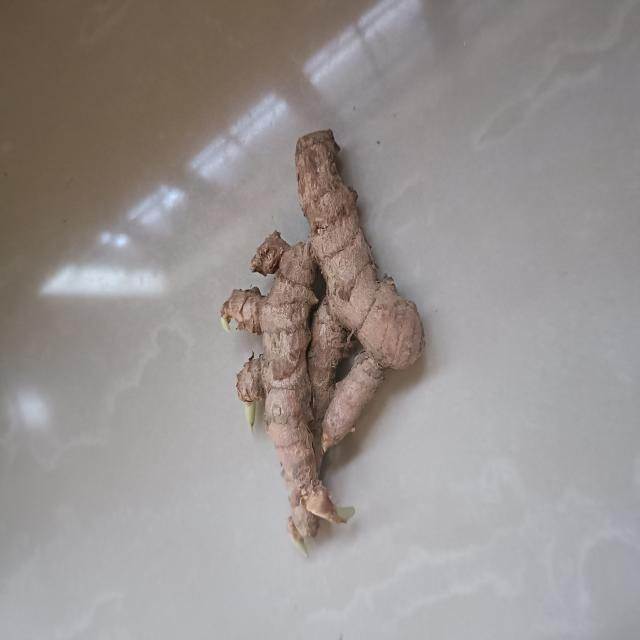ginger: (213, 130, 429, 552)
